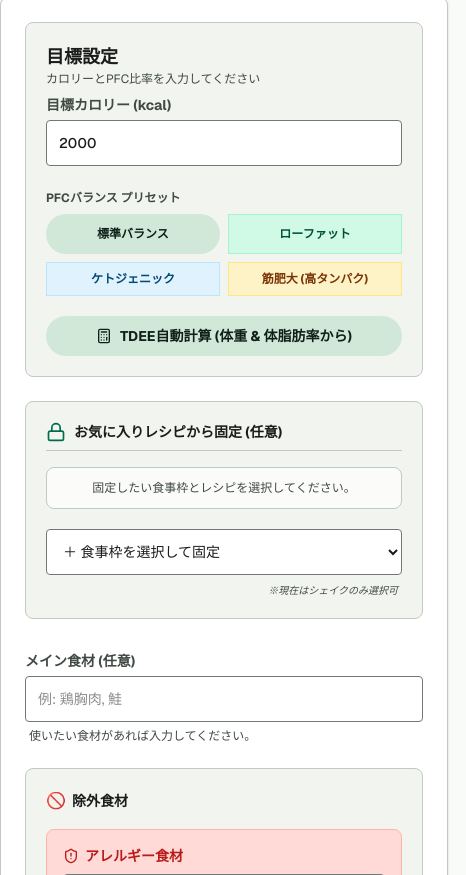
InputForm - カロリー超過バリデーション (isCalorieExceeded) › 超過時にエラーメッセージに具体的な数値（kcal）が表示される
Replace the text in the number field with "100" at (224, 143), box [46,120,402,166]
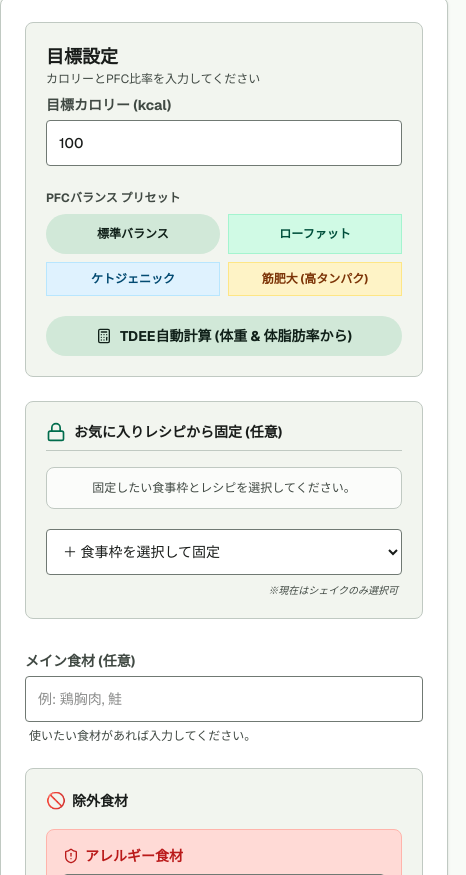
Select "1食目を固定" in the dropdown at (224, 552), box [46,529,402,575]
(page scrolled)
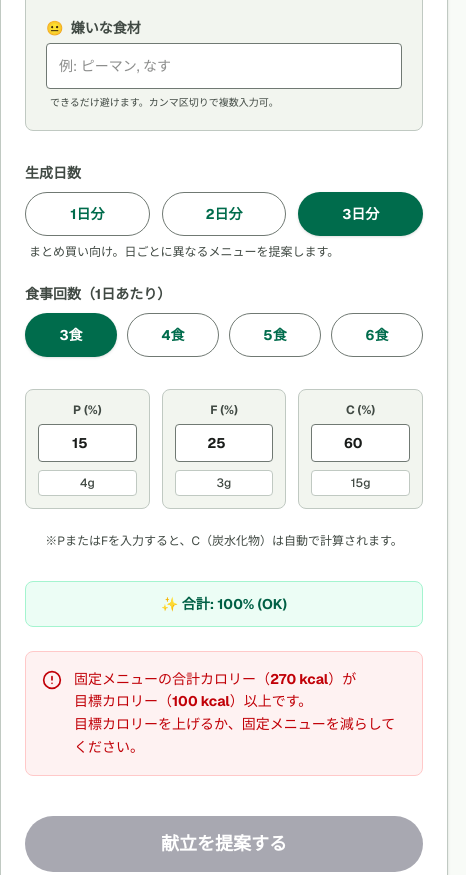
Result: the text "270 kcal" is shown at [270,670,328,688]
Result: the text "100 kcal" is shown at [172,692,230,710]
